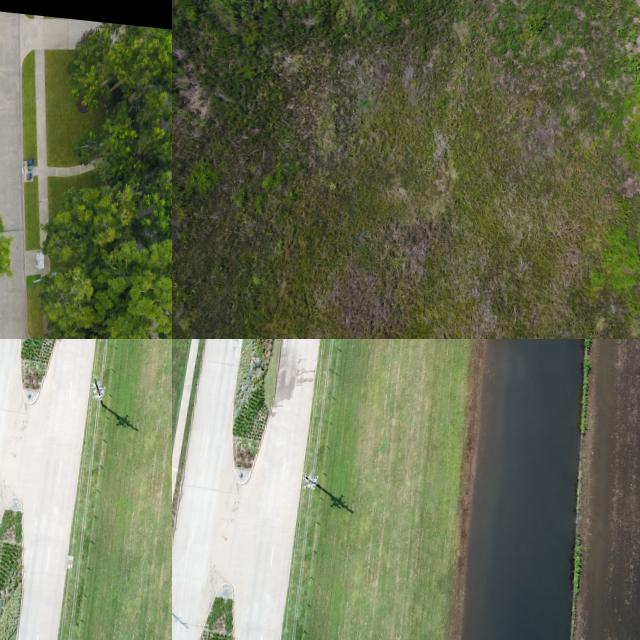fire: (462, 339, 583, 640)
